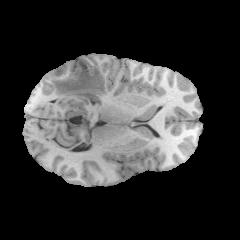glioma: (50, 60, 106, 101)
